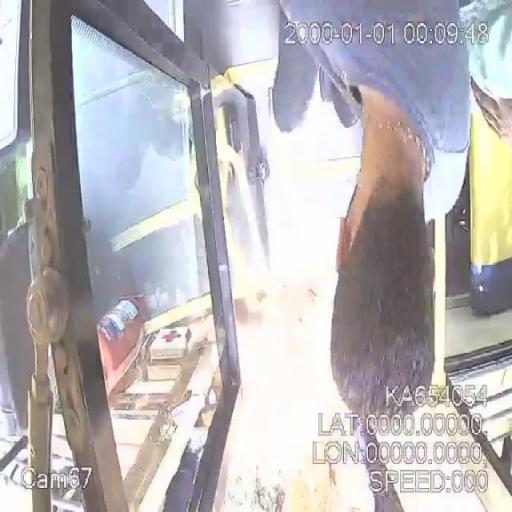persona: (270, 0, 474, 436)
